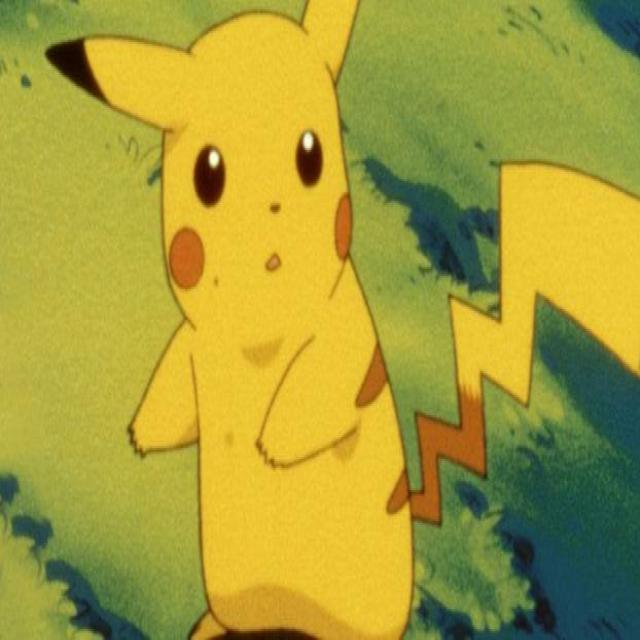pikachu: (48, 1, 625, 640)
